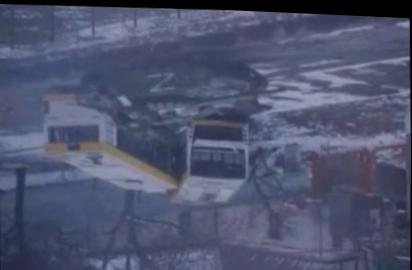tank: (77, 50, 289, 135)
